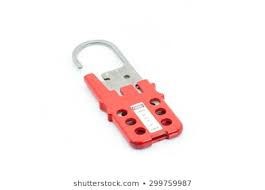hasp: (72, 40, 184, 153)
